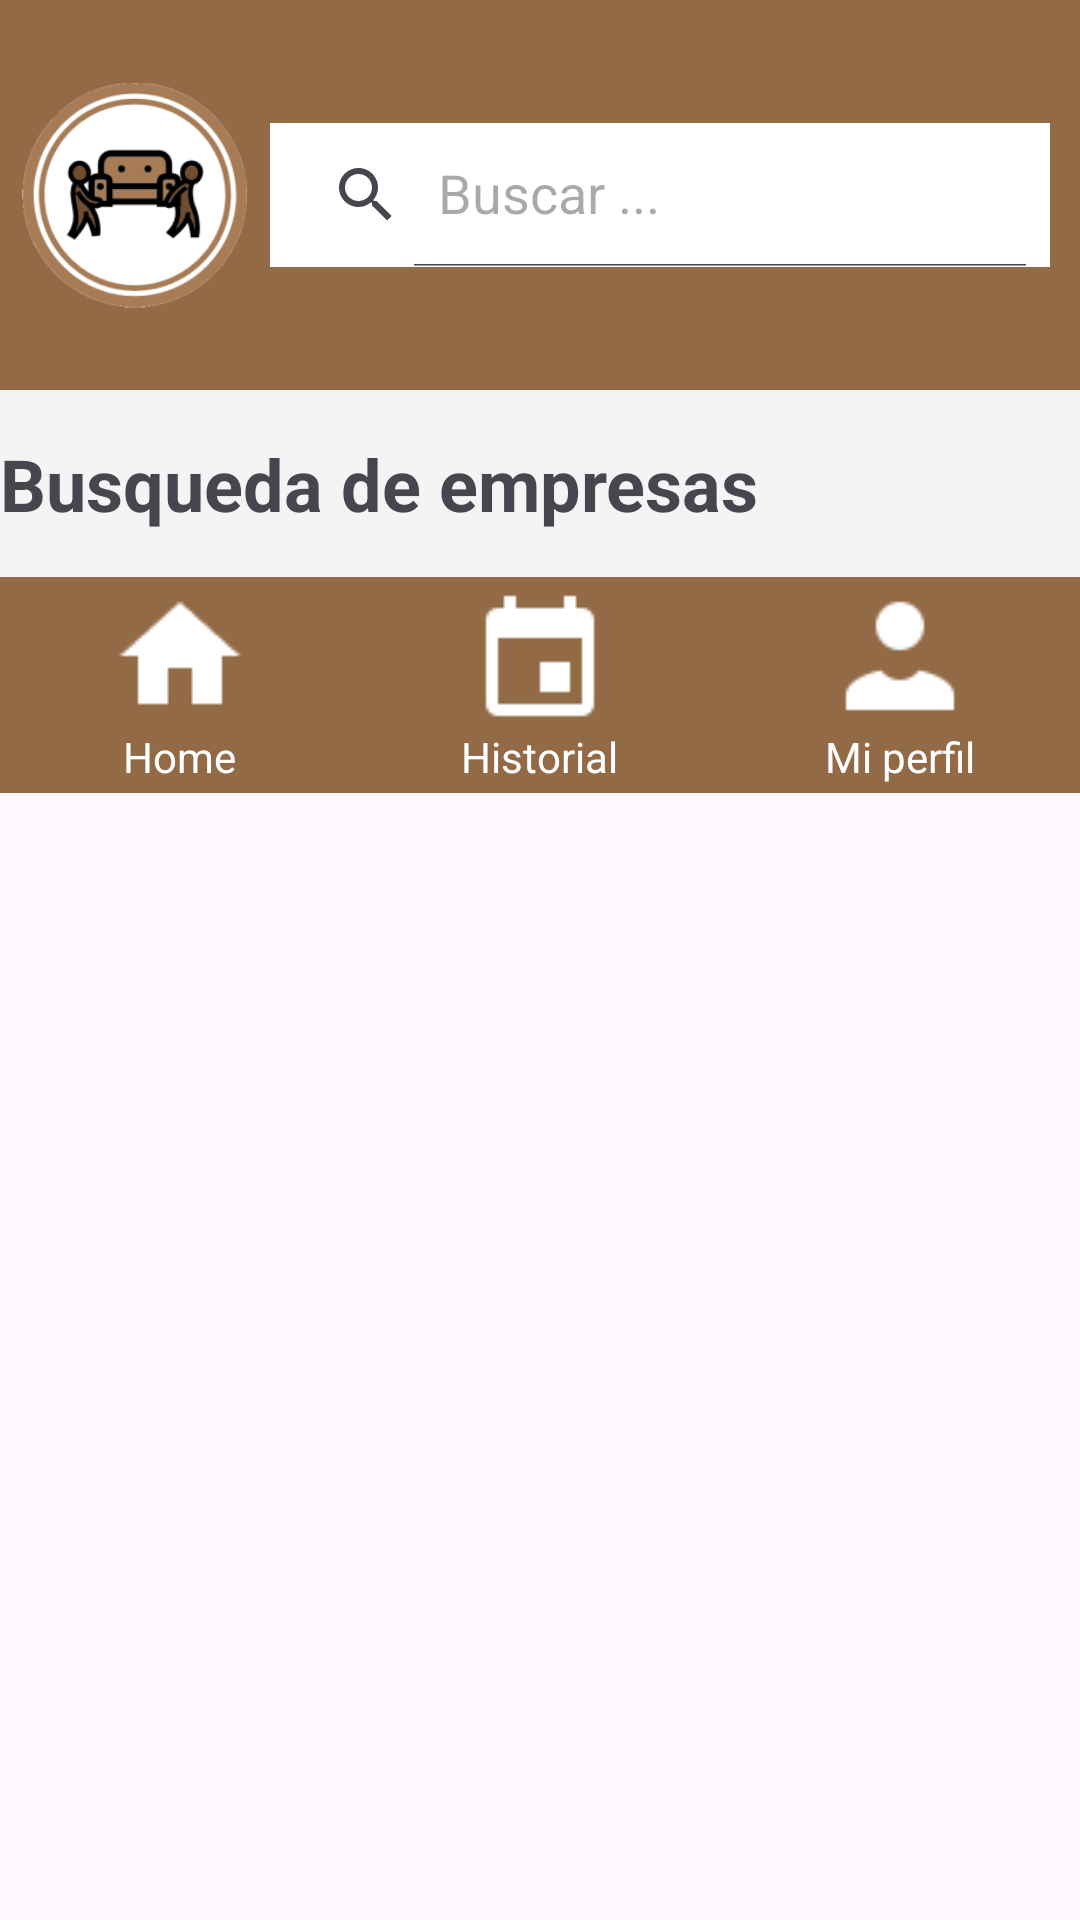

Where icons sit on this 1080×1920 app screen, as [left=x1, top=y1, right=x2, bottom=y2]:
planner: [left=485, top=595, right=595, bottom=717]
user: [left=845, top=601, right=955, bottom=711]
